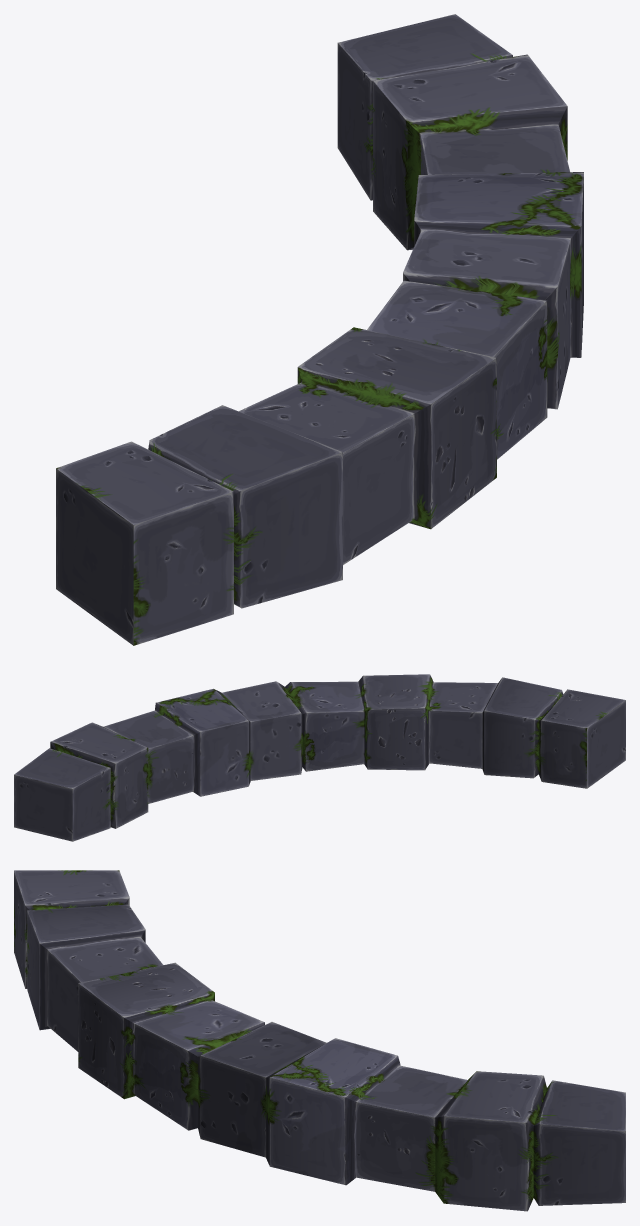
Rendered from MOD_WallCover_01_E_convex.fbx.
The picture shows the model from 3 angles, top to bottom: view 1: azimuth 30°, elevation 25°; view 2: azimuth 150°, elevation 25°; view 3: azimuth 270°, elevation 25°; orthographic projection. The views are drawn at different scales.
Visible parts, largest first — view 1: MOD_WallCover_01_E_convex; view 2: MOD_WallCover_01_E_convex; view 3: MOD_WallCover_01_E_convex.
Part boxes in pixels (x1,y1,x2,y2): MOD_WallCover_01_E_convex: (56, 14, 583, 645); MOD_WallCover_01_E_convex: (14, 674, 625, 841); MOD_WallCover_01_E_convex: (14, 870, 625, 1211).
Size of what is drawn, in the model's own units: 460 by 74.82 by 465.
